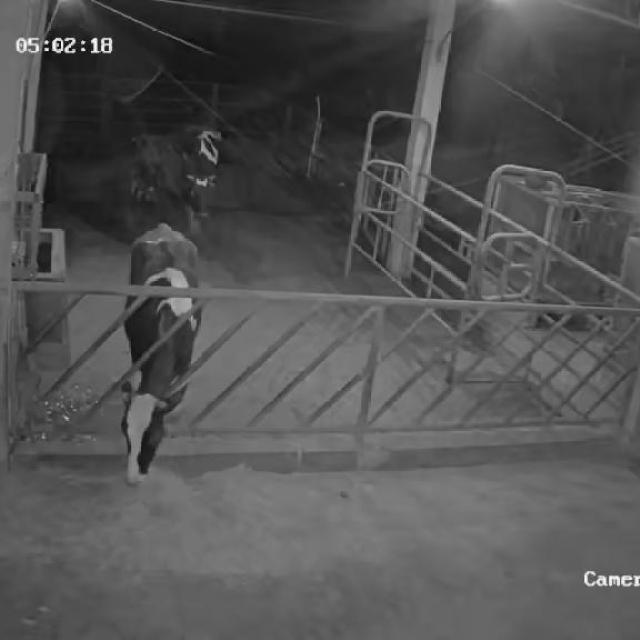feeding: (116, 230, 203, 490)
standing: (115, 128, 212, 245), (182, 126, 224, 237)
